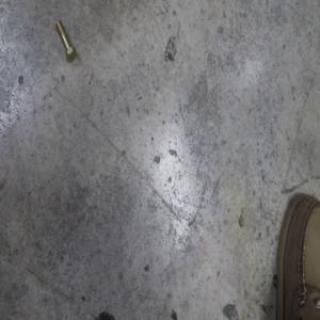Bolttrack_idkeyframe: (54, 19, 76, 64)
